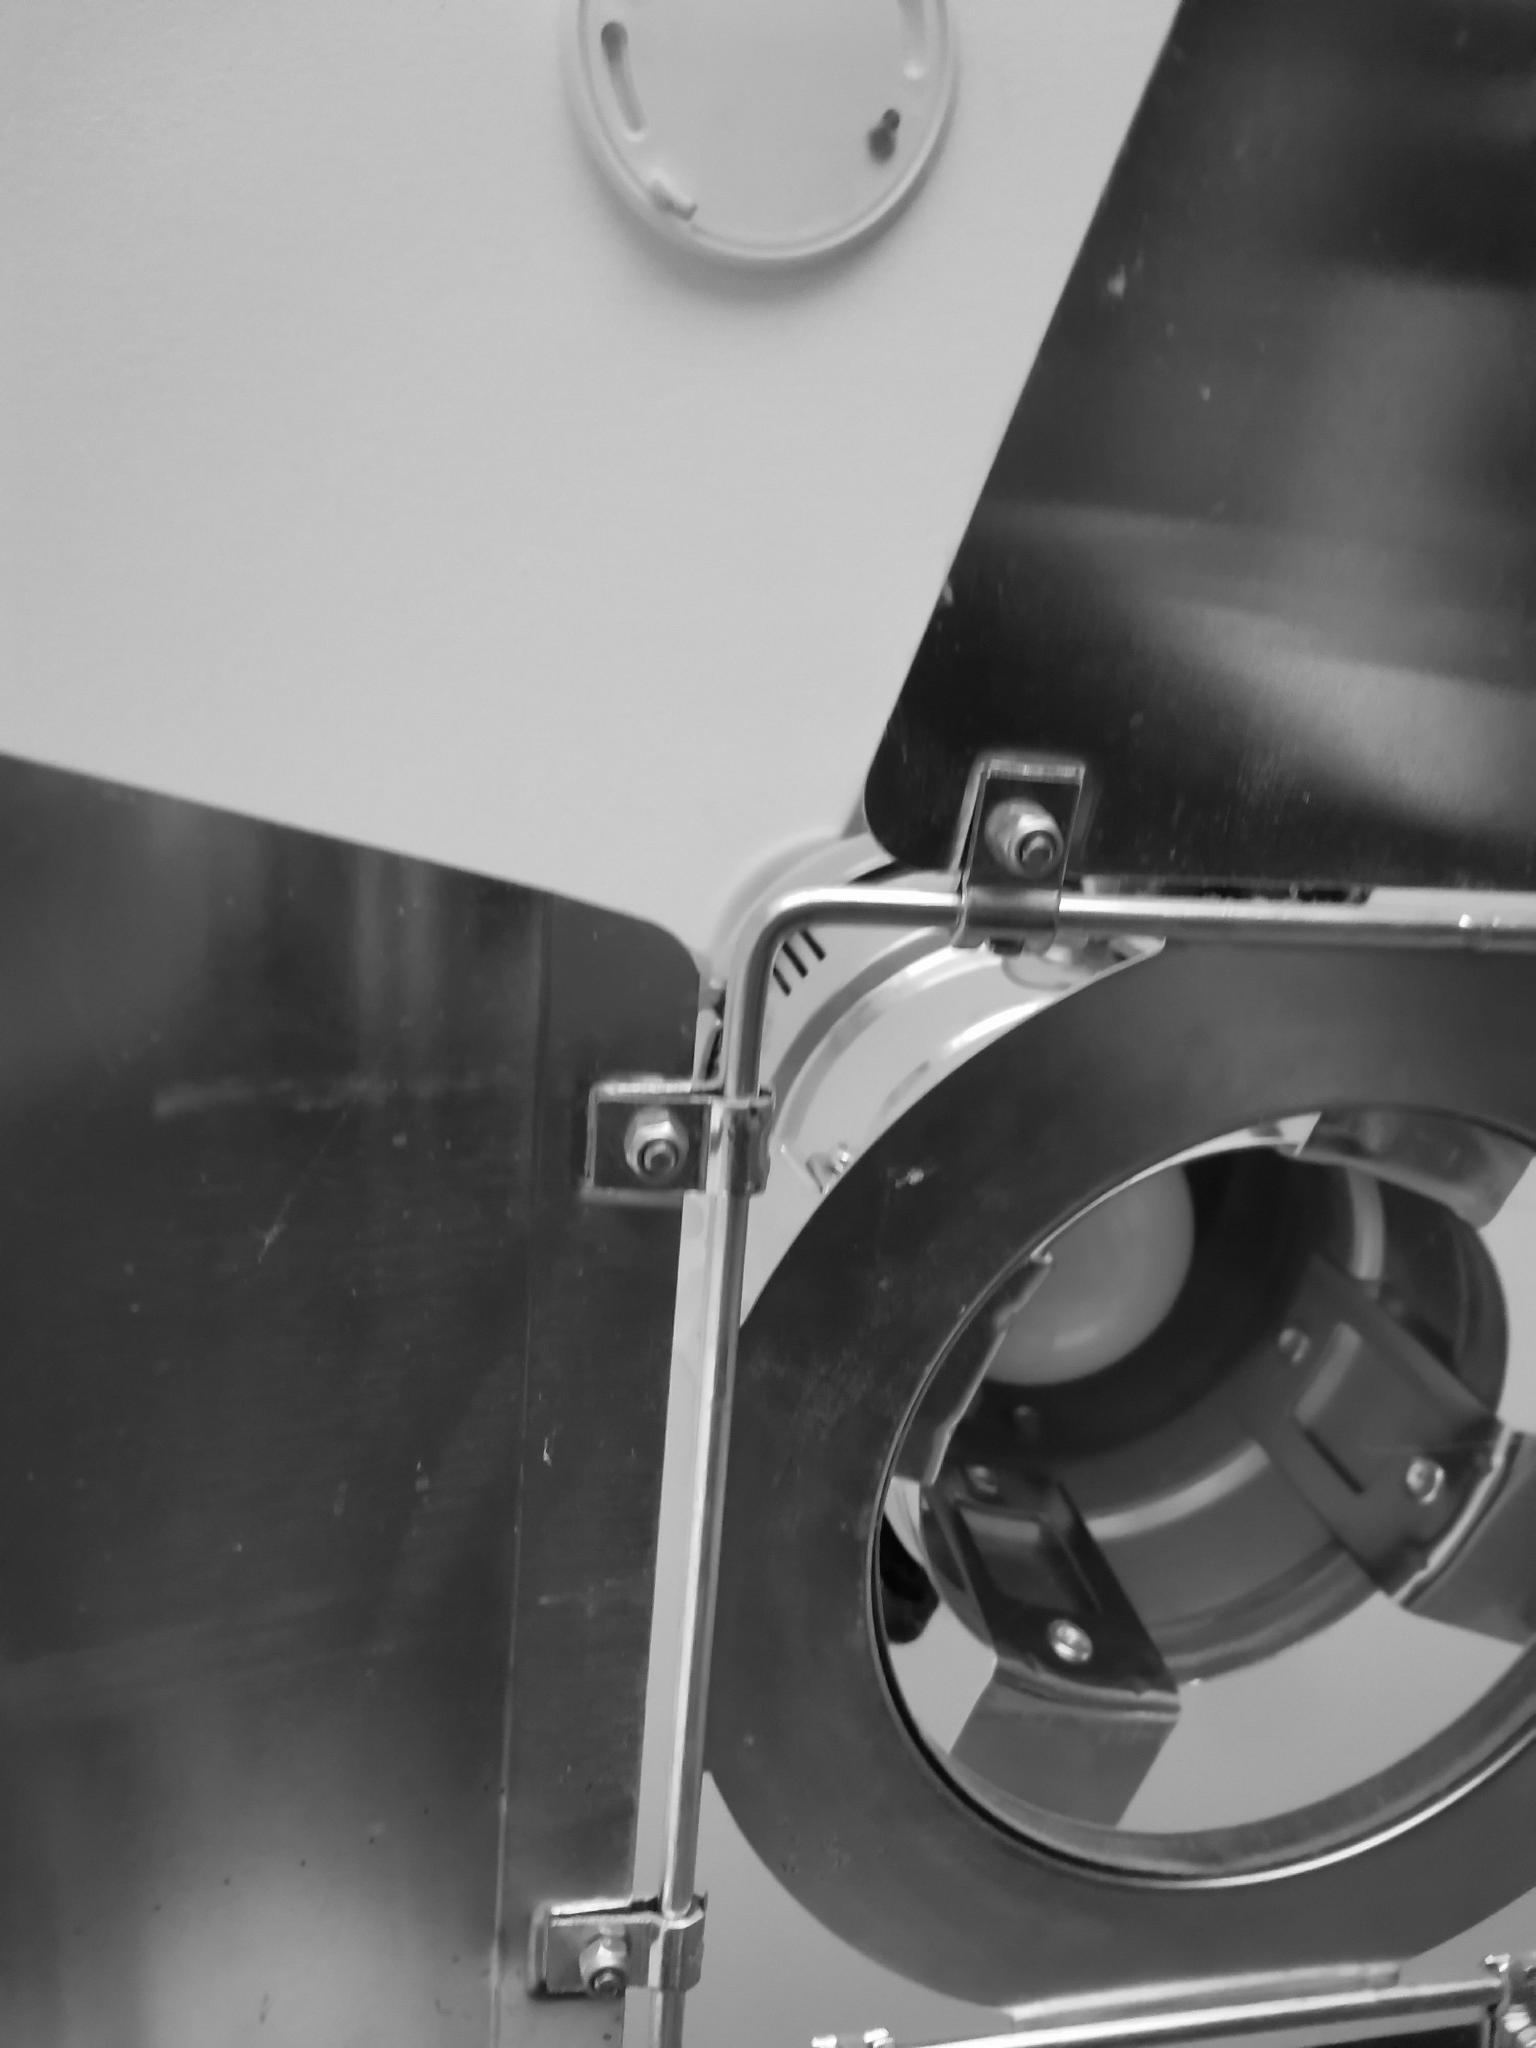hexagonal: (989, 803, 1071, 887), (620, 1111, 692, 1190)
